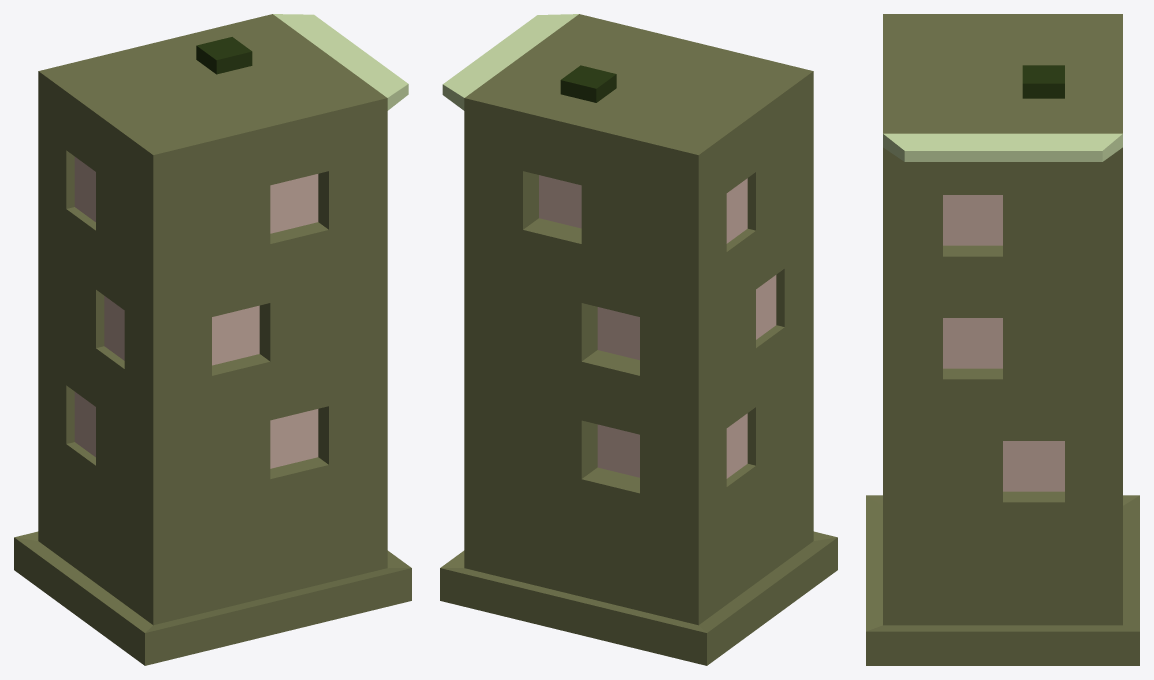
File: edificio mediano.fbx
3 renders of one model, left to right at view 1: azimuth 30°, elevation 25°; view 2: azimuth 150°, elevation 25°; view 3: azimuth 270°, elevation 25°, orthographic. The views are drawn at different scales.
Visible parts, largest first — view 1: Cube; view 2: Cube; view 3: Cube.
Boxes of the visible parts, <box> form: Cube: <box>14,14,411,665</box>; Cube: <box>440,14,837,665</box>; Cube: <box>866,14,1139,665</box>.
Bounding box in the file's own units: 266 × 464 × 214.
